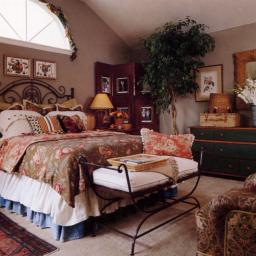Cama: (1, 79, 182, 234)
Matera: (143, 29, 213, 144)
